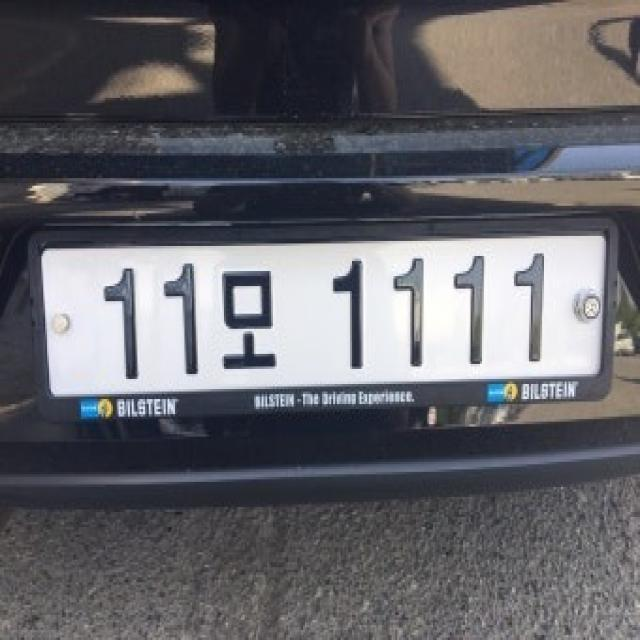car: (13, 196, 632, 452)
